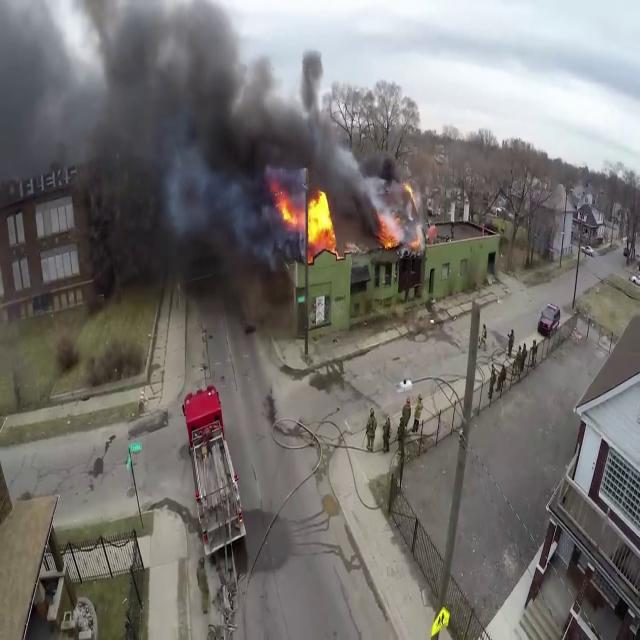Fire: (274, 181, 337, 253)
Smoke: (0, 1, 386, 280)
